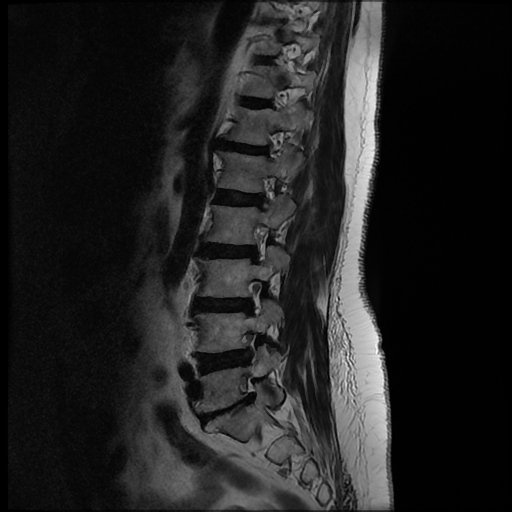LFS0: (244, 218, 276, 271), (235, 272, 268, 321), (251, 169, 284, 216)
LFS1: (235, 323, 267, 367)
